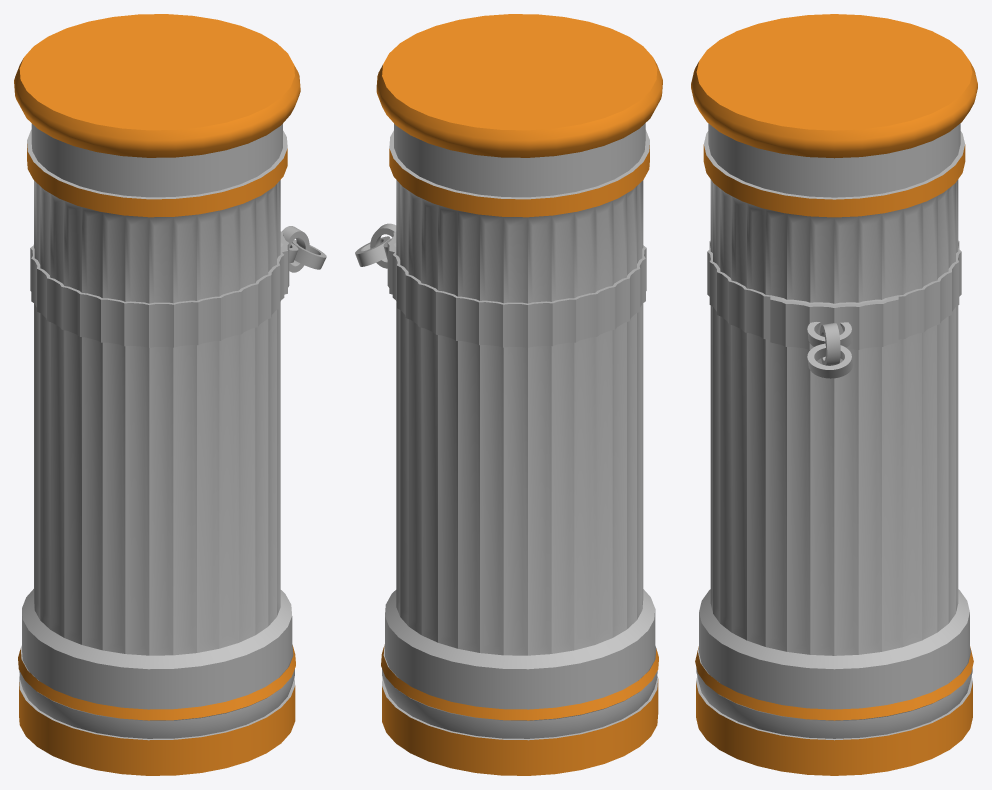
The picture shows the model from 3 angles, left to right: view 1: azimuth 30°, elevation 25°; view 2: azimuth 150°, elevation 25°; view 3: azimuth 270°, elevation 25°; orthographic projection.
Parts seen in each view (by area): view 1: Cylinder.001, Cube.141, Cube.140; view 2: Cylinder.001, Cube.141; view 3: Cylinder.001, Cube.141, Cube.140, Cube.139.
Boxes of the visible parts, x1,y1,x2,y2 form: Cylinder.001: [14, 14, 300, 775]; Cube.141: [292, 240, 326, 269]; Cube.140: [281, 226, 309, 272]; Cylinder.001: [376, 14, 662, 775]; Cube.141: [355, 236, 390, 266]; Cylinder.001: [691, 14, 977, 775]; Cube.141: [807, 343, 852, 378]; Cube.140: [820, 323, 840, 365]; Cube.139: [807, 322, 852, 347].
Bounding box in the file's own units: 289 × 621 × 250.
